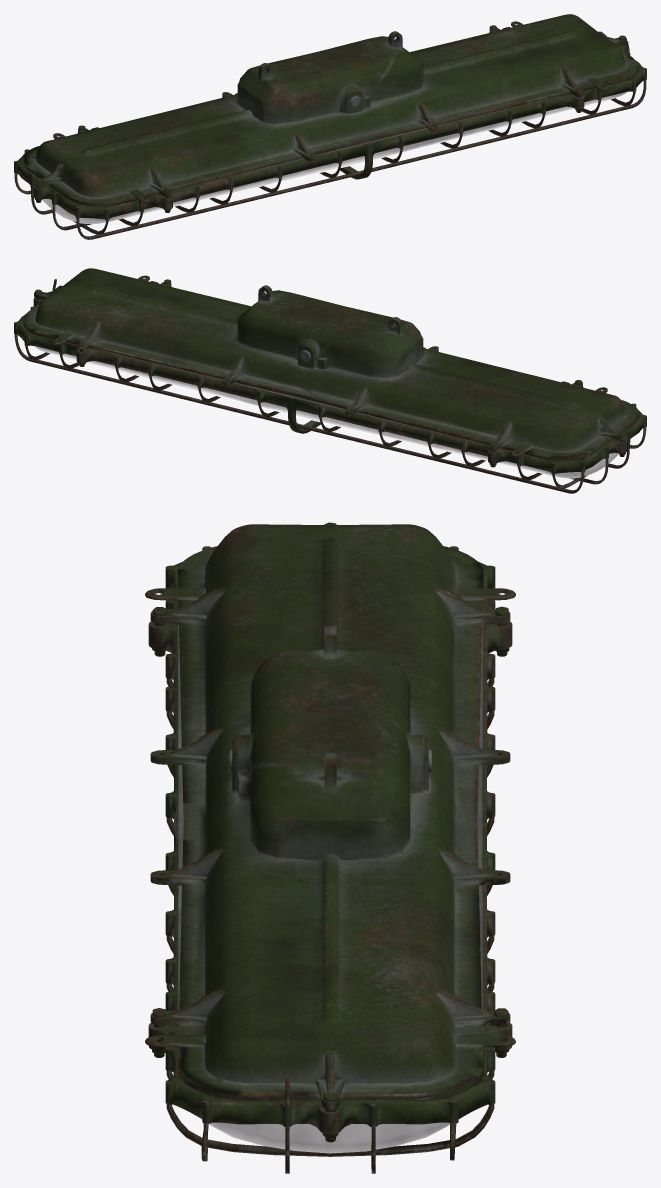
The model's file is Ceiling Fluorescent.fbx.
3 renders of one model, top to bottom at view 1: azimuth 30°, elevation 25°; view 2: azimuth 150°, elevation 25°; view 3: azimuth 270°, elevation 25°, orthographic. The views are drawn at different scales.
Parts seen in each view (by area): view 1: Ceiling Fluorescent; view 2: Ceiling Fluorescent; view 3: Ceiling Fluorescent.
Boxes of the visible parts, x1,y1,x2,y2 form: Ceiling Fluorescent: [14, 14, 646, 239]; Ceiling Fluorescent: [14, 268, 646, 493]; Ceiling Fluorescent: [145, 522, 515, 1173].
Bounding box in the file's own units: 116 × 21.11 × 31.49.
1 material, 1 textured.
